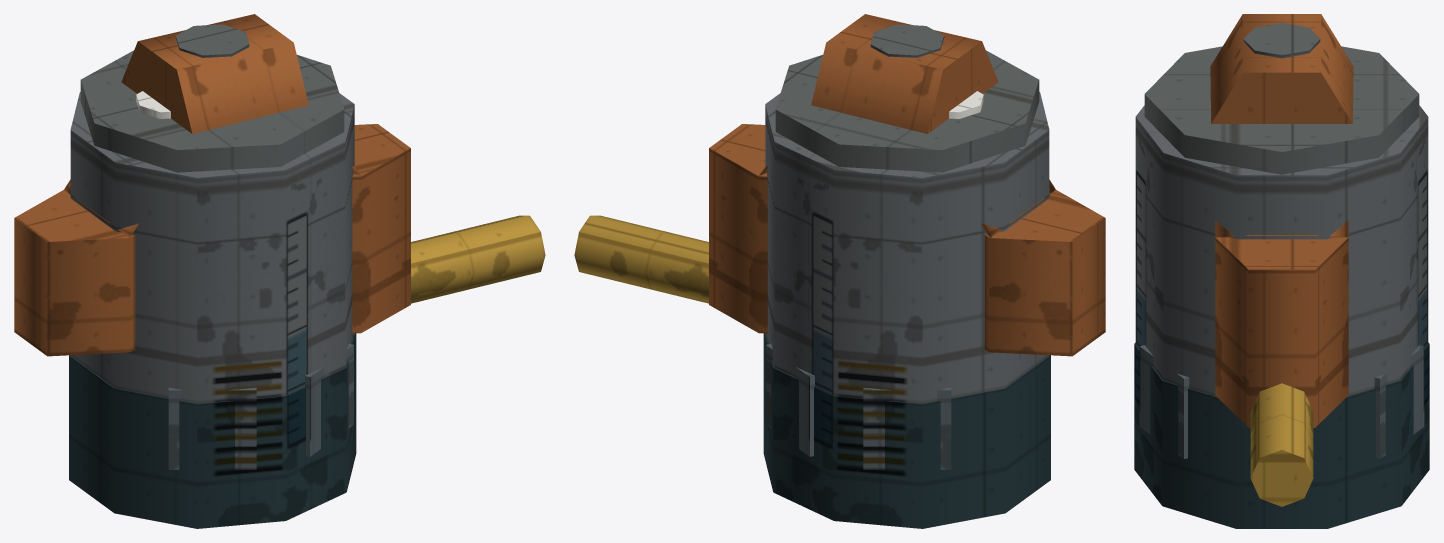
Rendered from tank_large.glb.
The picture shows the model from 3 angles, left to right: view 1: azimuth 30°, elevation 25°; view 2: azimuth 150°, elevation 25°; view 3: azimuth 270°, elevation 25°; orthographic projection.
Visible parts, largest first — view 1: merged-6a7076, merged-a56233, merged-263c43, merged-646a6c, merged-c19a3e, merged-5d6a72; view 2: merged-6a7076, merged-a56233, merged-263c43, merged-646a6c, merged-c19a3e, merged-5d6a72; view 3: merged-6a7076, merged-a56233, merged-263c43, merged-646a6c, merged-c19a3e, merged-5d6a72.
Part boxes in pixels (x1,y1,x2,y2): merged-6a7076: (70,92,354,403); merged-a56233: (14,14,410,356); merged-263c43: (69,333,356,528); merged-646a6c: (80,24,344,172); merged-c19a3e: (411,215,545,303); merged-5d6a72: (168,344,353,469); merged-6a7076: (765,92,1049,403); merged-a56233: (709,14,1105,356); merged-263c43: (763,333,1050,528); merged-646a6c: (775,24,1039,172); merged-c19a3e: (574,215,708,303); merged-5d6a72: (766,344,951,469); merged-6a7076: (1135,105,1428,396); merged-a56233: (1210,14,1353,427); merged-263c43: (1134,342,1429,528); merged-646a6c: (1144,23,1419,174); merged-c19a3e: (1250,383,1313,506); merged-5d6a72: (1139,345,1424,458).
Size of the model in its own units: 19.63 by 16.07 by 10.
Materials: 8 (8 with a texture image).
